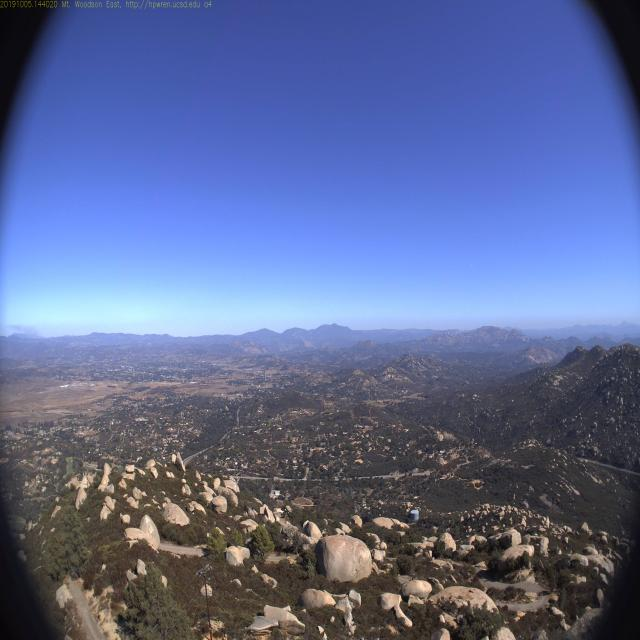smoke: (2, 316, 46, 340)
